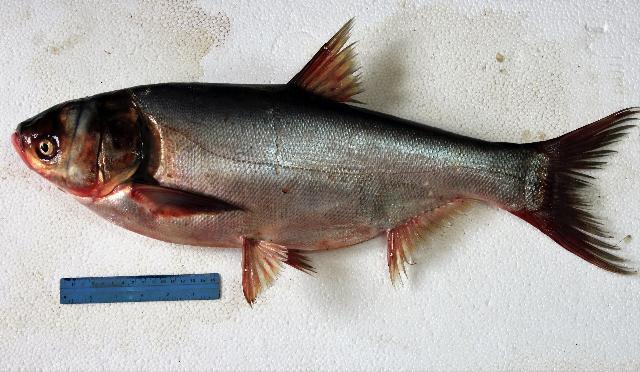Mulut: (4, 113, 41, 169)
Sirip Anal: (376, 179, 494, 297)
Sirip Dada: (123, 180, 251, 223)
Sirip Ekor: (504, 88, 640, 288)
Sirip Perut: (236, 232, 326, 320)
Sirip Punggung: (279, 13, 386, 121)
